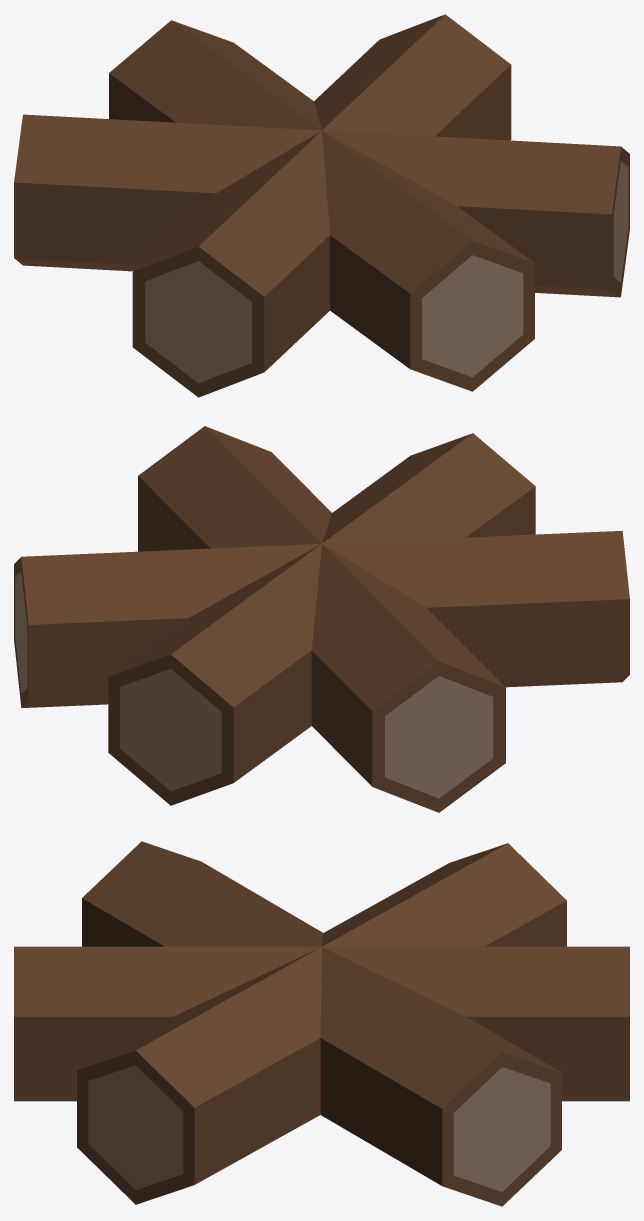
The model's file is Odun.fbx.
3 views of the same model, one above another, from view 1: azimuth 30°, elevation 25°; view 2: azimuth 150°, elevation 25°; view 3: azimuth 270°, elevation 25° (orthographic). The views are drawn at different scales.
Visible parts, largest first — view 1: Odun; view 2: Odun; view 3: Odun.
Boxes of the visible parts, <box> form: Odun: <box>14,14,629,397</box>; Odun: <box>14,426,629,812</box>; Odun: <box>14,841,629,1206</box>.
Size of the model in its own units: 0.4323 by 0.1257 by 0.4546.
